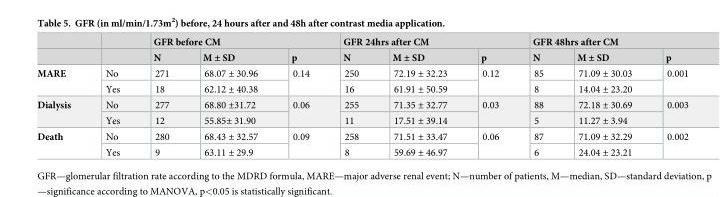table: (36, 36, 687, 158)
table column: (374, 36, 463, 158), (559, 36, 648, 158), (185, 36, 273, 158), (273, 36, 325, 158), (463, 36, 515, 158), (36, 36, 87, 158), (87, 36, 136, 158), (136, 36, 185, 158), (325, 36, 374, 158), (515, 36, 559, 158), (648, 36, 687, 158)
table column header: (36, 36, 687, 65)
table row: (36, 48, 687, 65), (36, 80, 687, 96), (36, 96, 687, 112), (36, 112, 687, 128), (36, 65, 687, 80), (36, 128, 687, 143), (36, 143, 687, 158), (36, 36, 687, 48)
table spanning cell: (325, 36, 515, 48), (136, 36, 325, 48), (515, 36, 687, 48), (273, 96, 325, 128), (463, 96, 515, 128), (36, 96, 87, 128), (273, 65, 325, 96), (463, 65, 515, 96), (36, 65, 87, 96), (273, 128, 325, 158), (463, 128, 515, 158), (36, 128, 87, 158), (648, 96, 687, 128), (648, 65, 687, 96), (648, 128, 687, 158)
